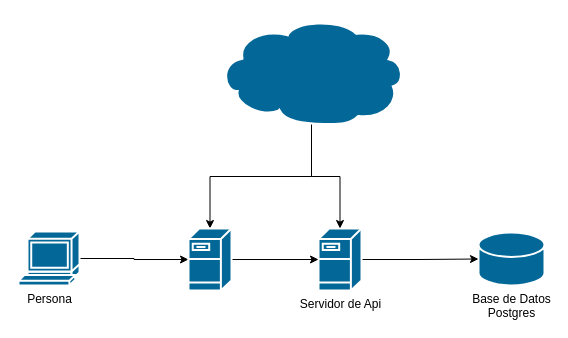
The diagram is 568 pixels wide and 338 high, and some of its shapes have lost their labels. Here are the shapes that lost their labels. From the top down, the centre of each, then its label:
pixel 311 71: Repositorio Github
pixel 209 259: Servidor de Web
